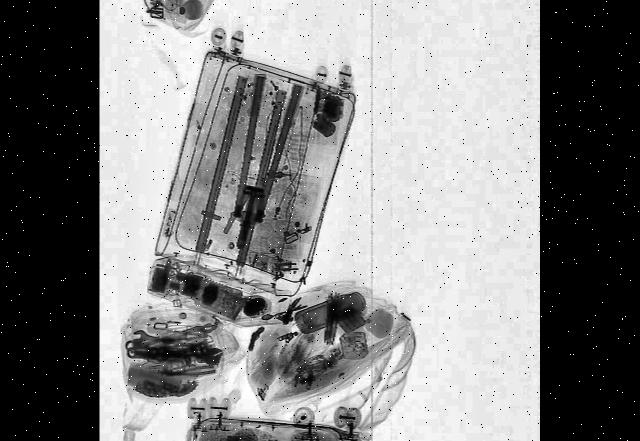Wrench: (125, 342, 224, 366)
